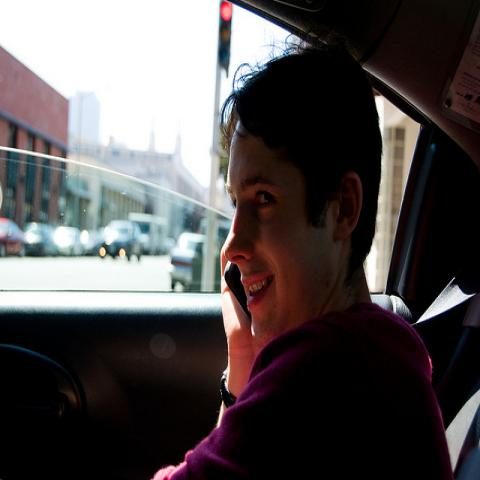car: (168, 231, 224, 290), (98, 218, 144, 262), (129, 212, 176, 255), (51, 225, 88, 256), (0, 217, 27, 258), (23, 229, 59, 257), (80, 229, 100, 256)
